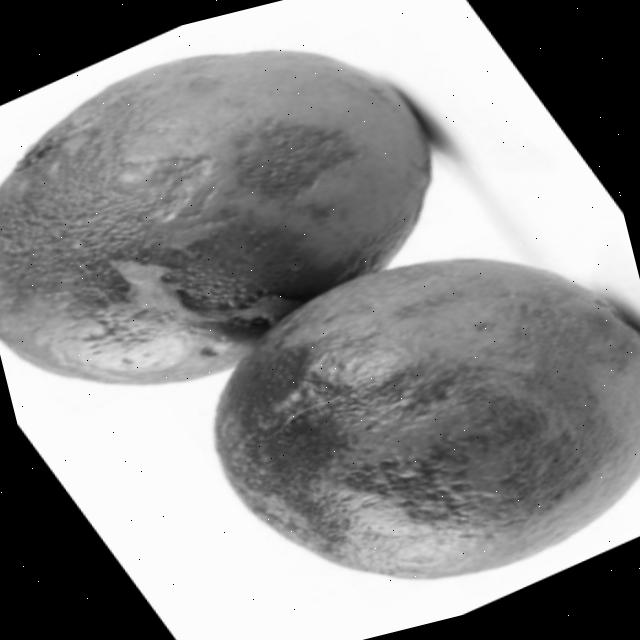overripe: (170, 203, 640, 637), (0, 1, 476, 426)
